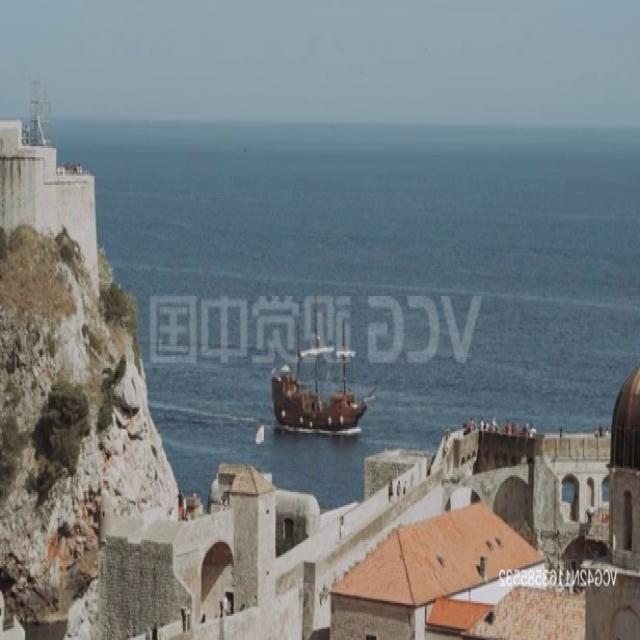sailboat: (270, 307, 369, 432)
